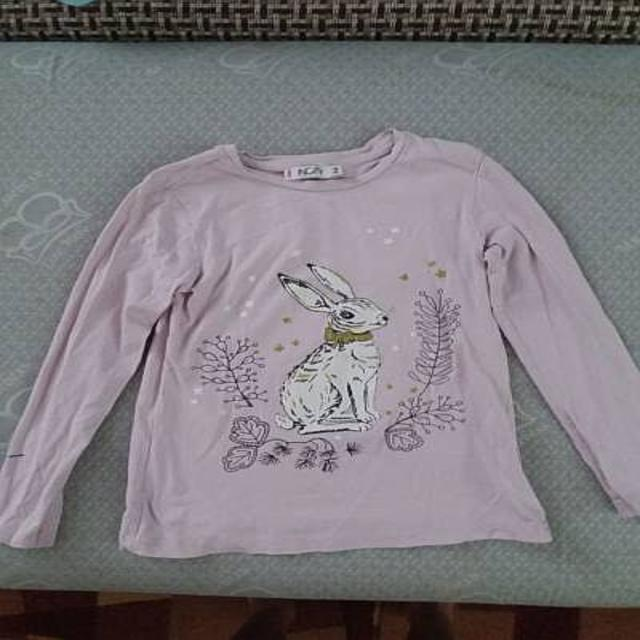SHIRT: (7, 119, 640, 568)
